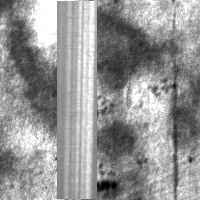inclusion: (55, 148, 116, 195)
patches: (6, 6, 163, 131), (91, 120, 142, 199)
scratches: (57, 1, 97, 199)
